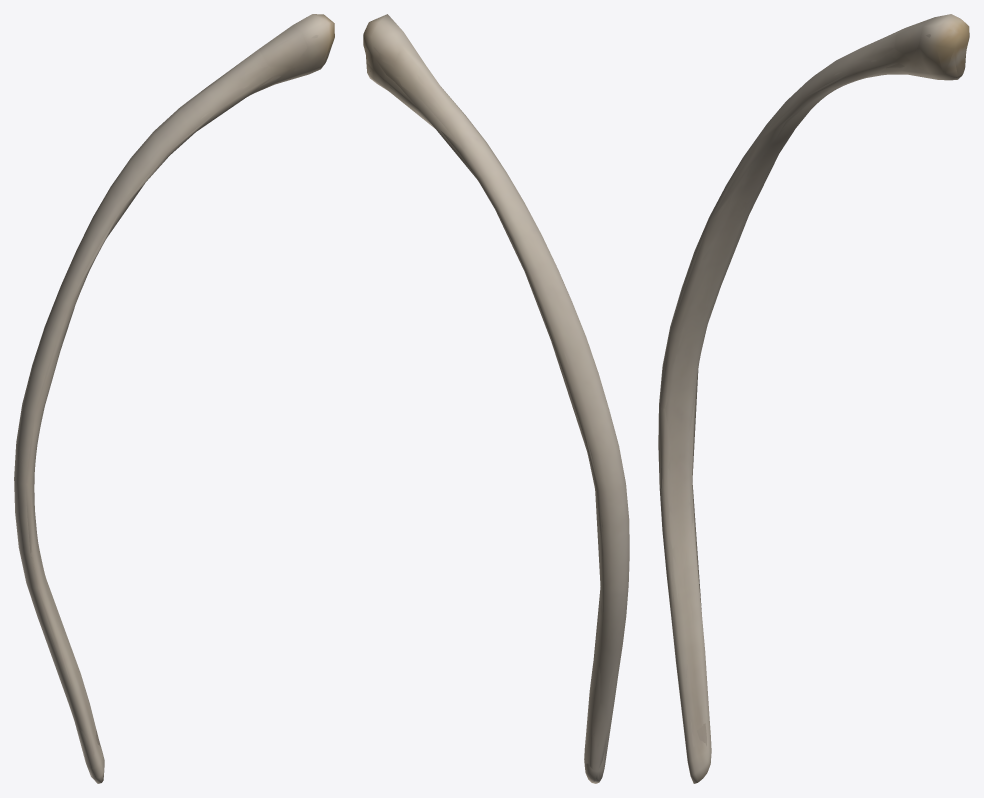
File: Rib R13.fbx
The picture shows the model from 3 angles, left to right: view 1: azimuth 30°, elevation 25°; view 2: azimuth 150°, elevation 25°; view 3: azimuth 330°, elevation 25°; orthographic projection. The views are drawn at different scales.
Parts seen in each view (by area): view 1: Rib R13, Rib R13 low, Rib R13 high; view 2: Rib R13, Rib R13 low, Rib R13 high; view 3: Rib R13, Rib R13 low, Rib R13 high.
Boxes of the visible parts, bbox=[...] form: Rib R13: bbox=[14, 14, 334, 783]; Rib R13 low: bbox=[14, 16, 334, 769]; Rib R13 high: bbox=[17, 35, 318, 772]; Rib R13: bbox=[363, 14, 629, 783]; Rib R13 low: bbox=[364, 23, 627, 783]; Rib R13 high: bbox=[367, 46, 627, 774]; Rib R13: bbox=[658, 14, 969, 783]; Rib R13 low: bbox=[659, 15, 968, 761]; Rib R13 high: bbox=[658, 34, 930, 772].
Size of the model in its own units: 7.06 by 16.72 by 2.14.
Materials: 1 (1 with a texture image).
